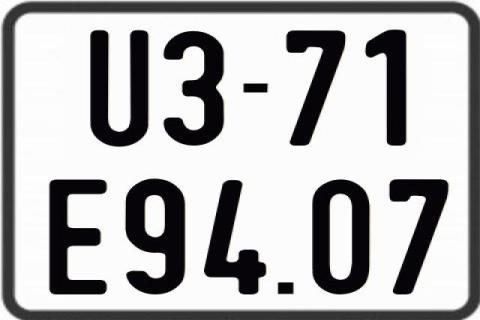0: (285, 29, 350, 149), (123, 179, 184, 299), (204, 180, 266, 298), (309, 178, 371, 294), (389, 177, 451, 293), (161, 31, 223, 145), (364, 29, 406, 145)
E: (46, 178, 108, 296)
U: (90, 30, 151, 146)
